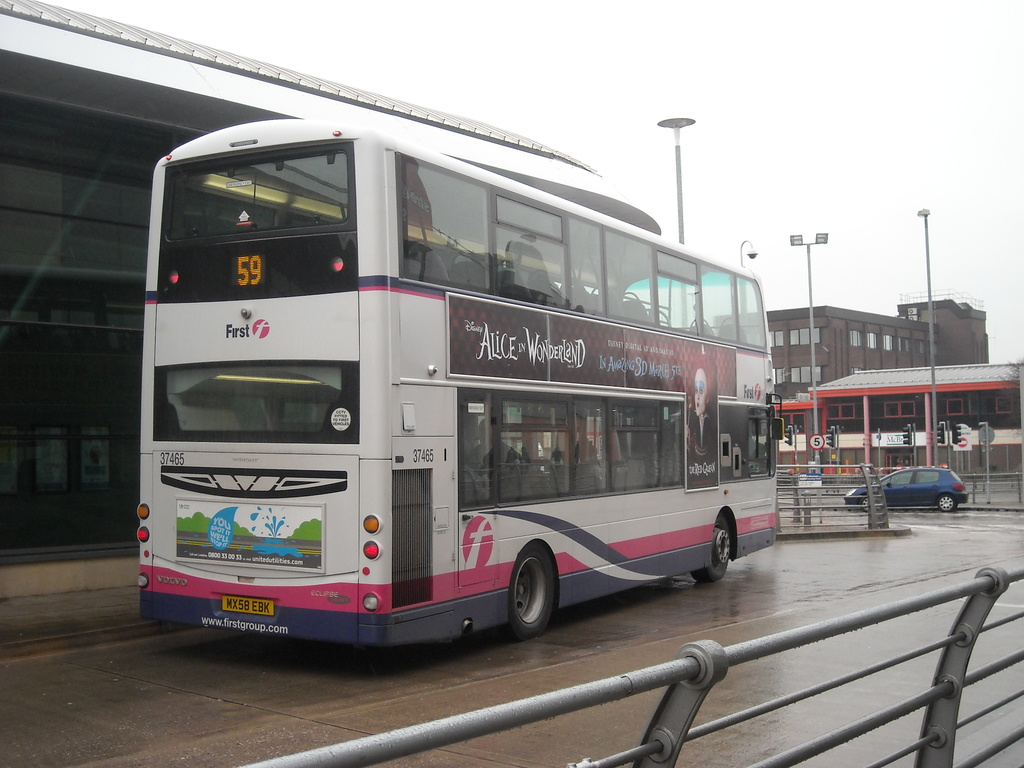Car: (843, 465, 969, 511)
